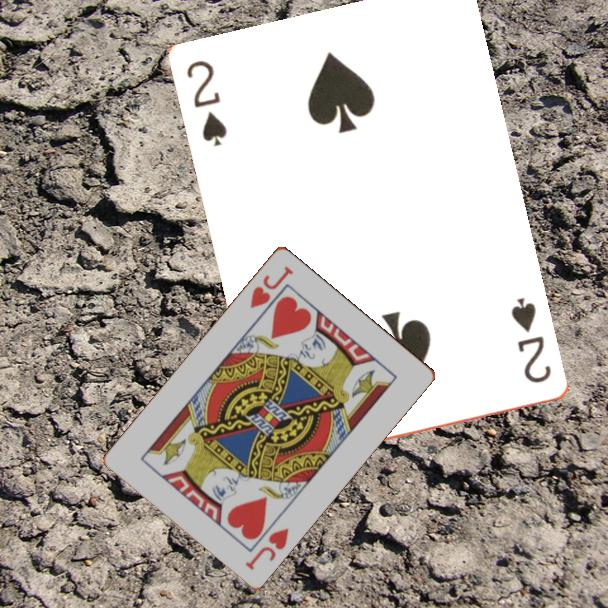h11: (246, 262, 296, 311), (242, 524, 292, 573)
s02: (183, 57, 231, 150), (508, 294, 555, 387)
